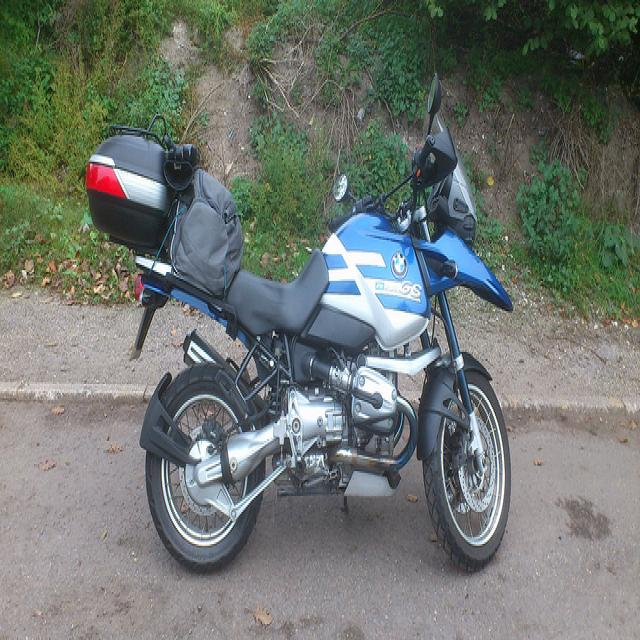motor: (83, 75, 519, 575)
